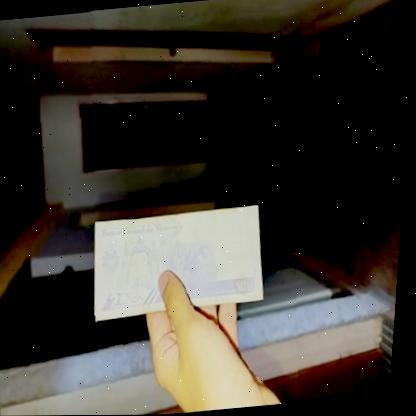vef_back: (89, 204, 273, 321)
